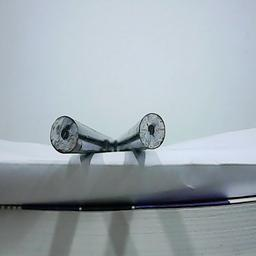pen: (51, 115, 79, 153), (140, 113, 164, 149)
